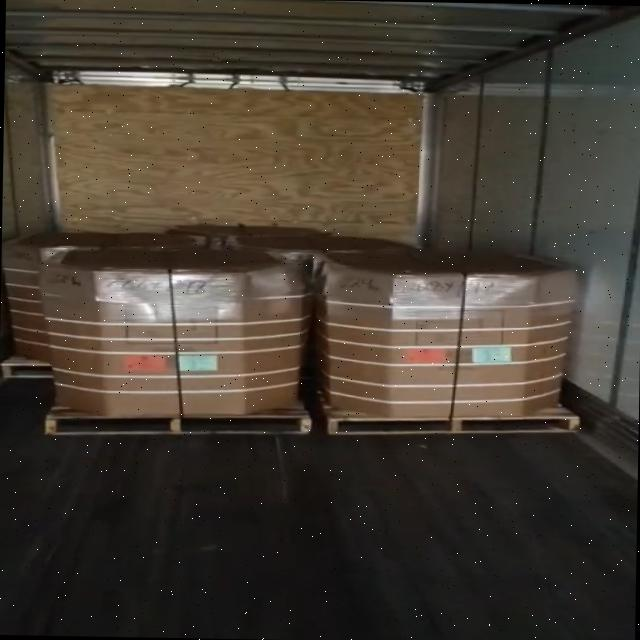pallet: (43, 415, 313, 435), (327, 416, 582, 435), (0, 364, 55, 378)
